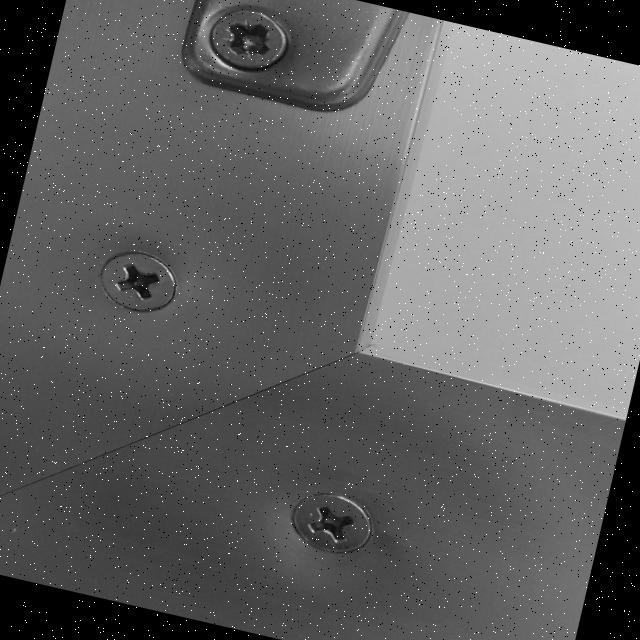Phillips: (279, 484, 385, 564), (96, 245, 189, 320)
Pozidriv: (206, 2, 296, 82)
